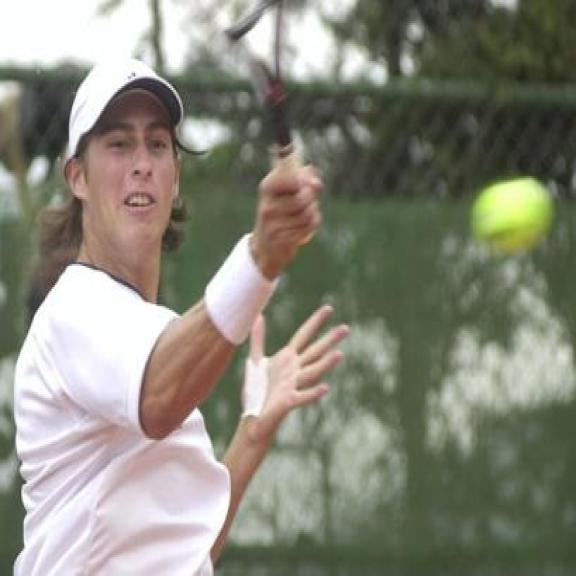face: (67, 99, 183, 256)
